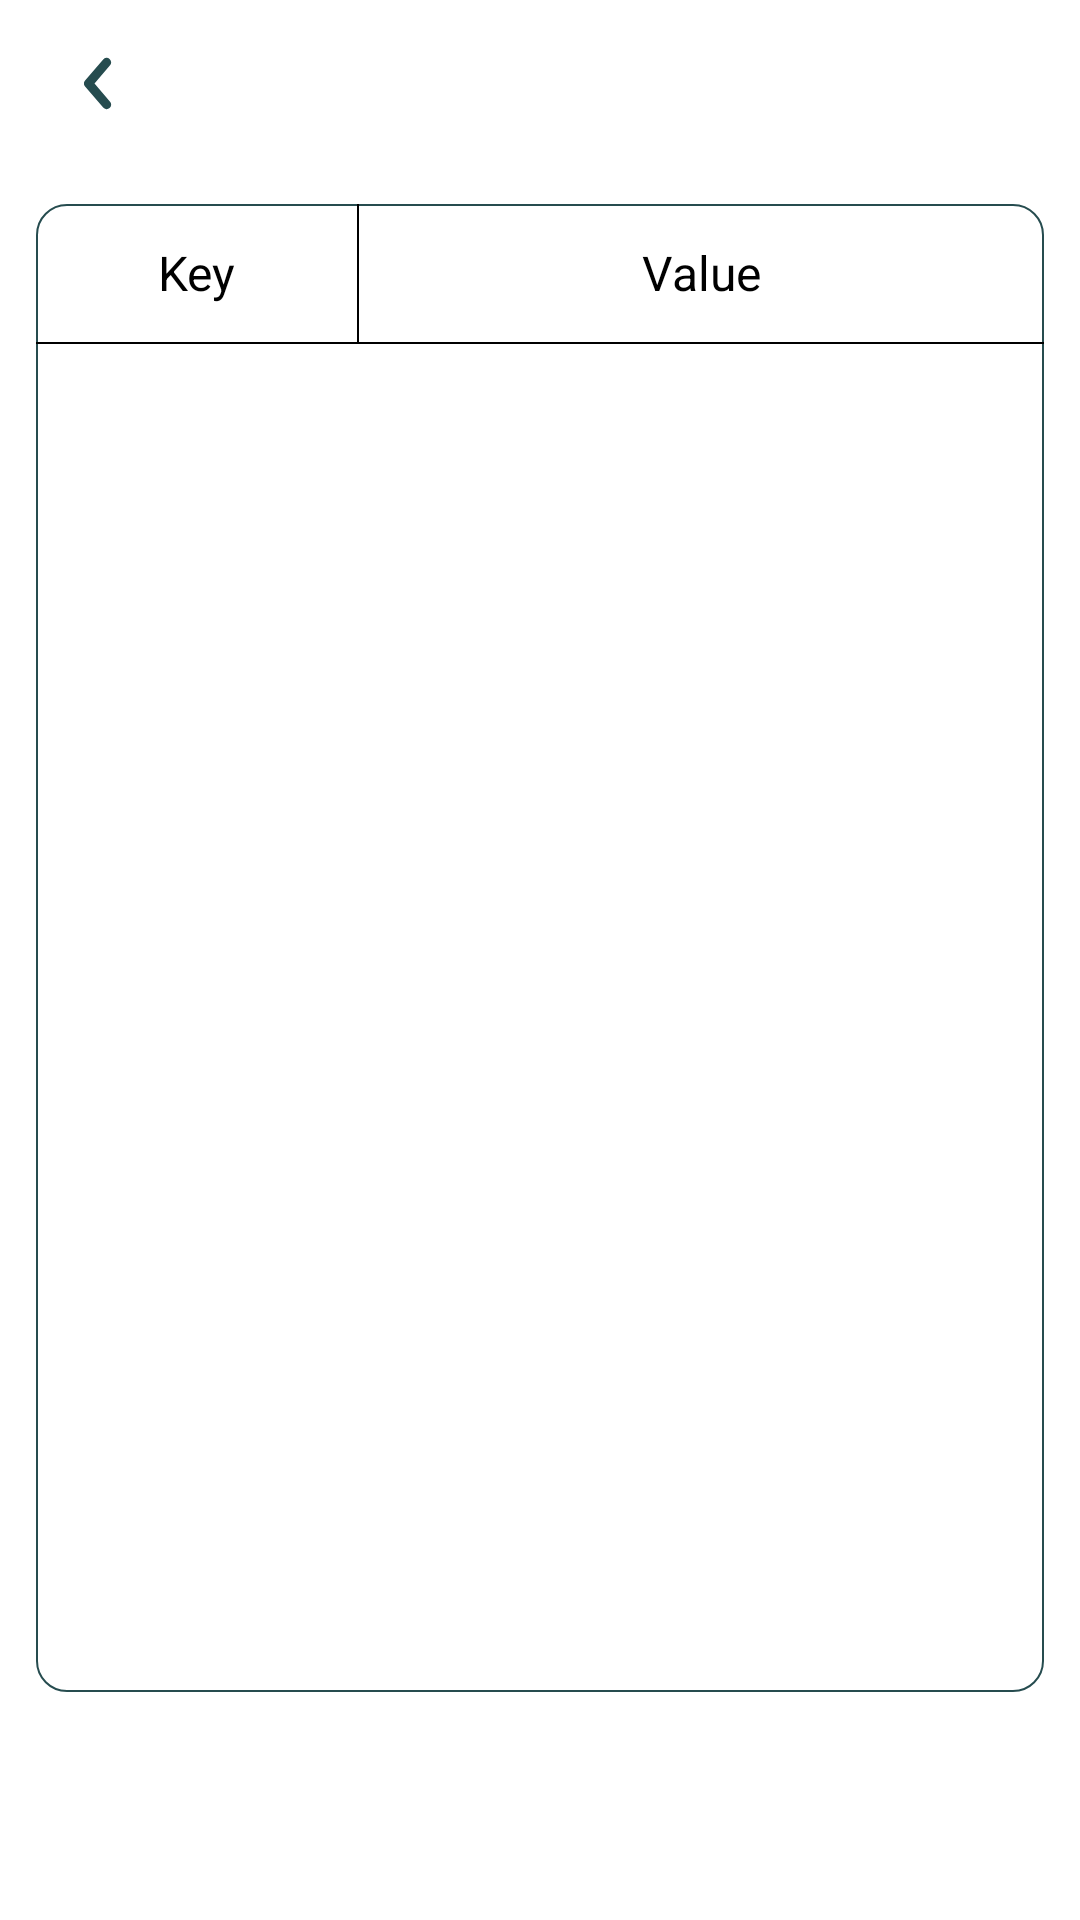

Screen size 1080 × 1920. Icon name, then its box in pixels as {"x1": x1, "y1": y1, "x2": x2, "y2": y2}:
back: {"x1": 84, "y1": 57, "x2": 111, "y2": 110}
